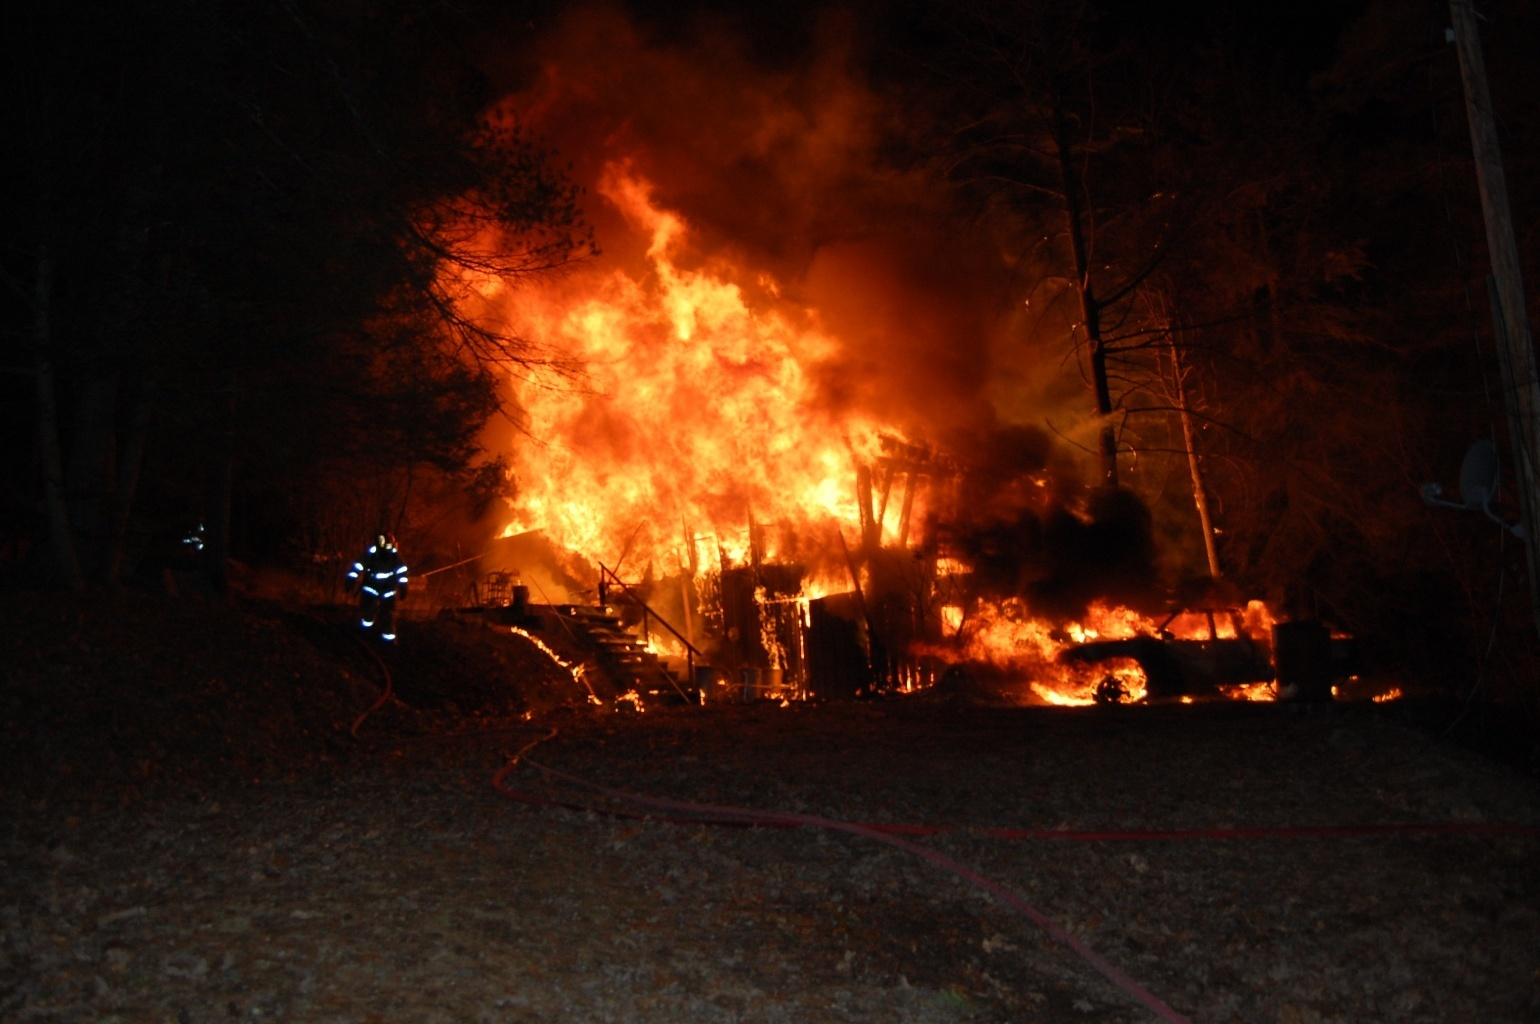fire: (462, 149, 1289, 735)
